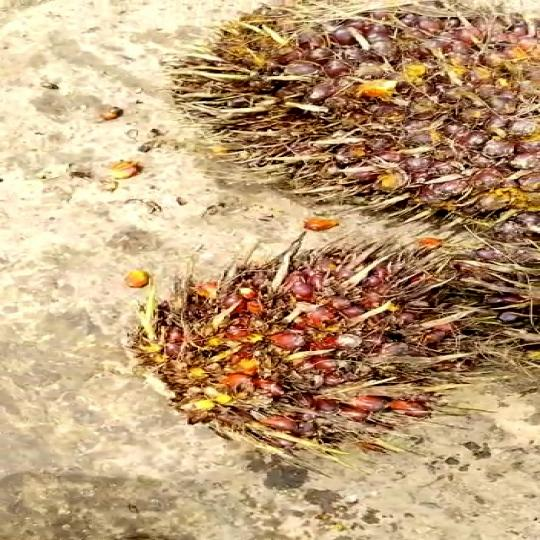masak: (151, 0, 540, 246), (108, 242, 540, 456)
